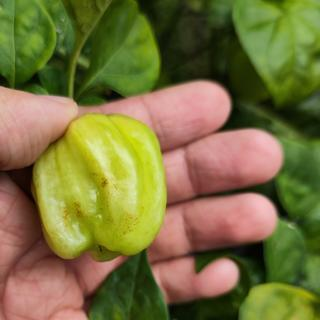Grade-B: (29, 111, 168, 265)
